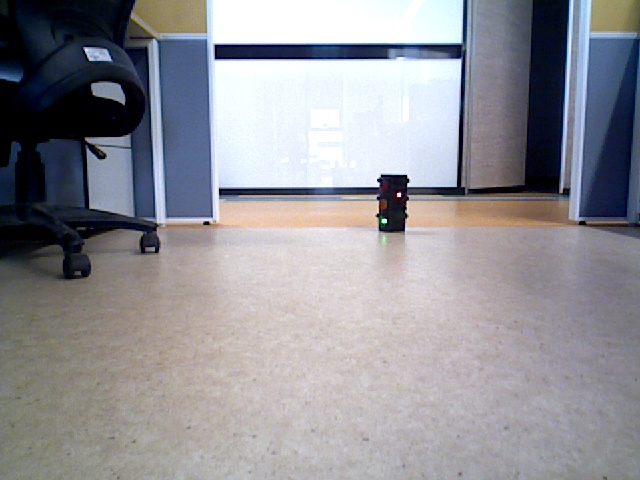green: (377, 176, 404, 227)
